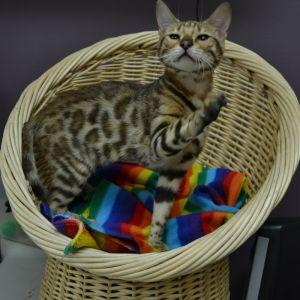bengal: (141, 1, 242, 82)
